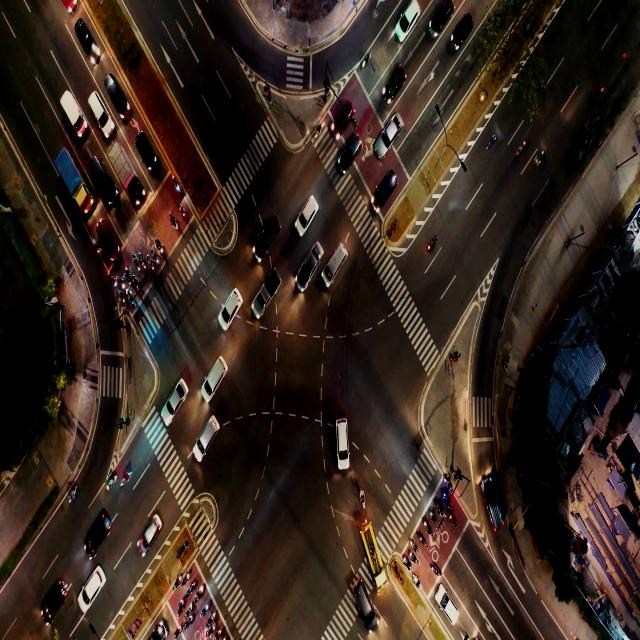bus: (364, 537, 378, 555)
car: (479, 492, 503, 546), (168, 381, 186, 411), (329, 248, 347, 275), (334, 414, 348, 448), (49, 581, 68, 606), (88, 570, 104, 596), (264, 214, 278, 242), (148, 510, 161, 538), (386, 67, 404, 87), (212, 359, 224, 389), (434, 6, 446, 32), (359, 586, 371, 610), (80, 26, 91, 52), (308, 248, 320, 271), (96, 513, 108, 536), (454, 18, 467, 38), (205, 418, 216, 441), (111, 81, 123, 102), (442, 598, 456, 616), (383, 171, 394, 191), (388, 118, 400, 136), (228, 291, 238, 310), (92, 166, 102, 185), (143, 143, 151, 165), (102, 223, 110, 245), (348, 140, 358, 157), (402, 15, 413, 30), (341, 104, 349, 124), (97, 101, 106, 117), (307, 202, 314, 214)
motorcycle: (314, 119, 324, 141), (485, 135, 495, 152), (362, 54, 370, 71), (428, 236, 437, 250), (516, 142, 528, 152), (68, 489, 76, 504), (433, 563, 442, 575), (449, 514, 456, 527), (173, 578, 180, 591), (96, 241, 102, 256), (109, 477, 116, 489), (195, 588, 202, 600), (425, 519, 431, 532), (180, 205, 187, 216), (361, 489, 365, 507), (442, 491, 448, 503), (412, 553, 418, 564), (189, 582, 195, 593), (420, 532, 425, 544), (128, 291, 133, 303), (124, 472, 130, 482), (153, 251, 158, 262), (412, 541, 418, 550), (406, 558, 411, 568), (128, 274, 132, 286), (187, 605, 193, 613), (208, 614, 214, 622), (174, 179, 178, 190), (175, 626, 178, 640), (210, 623, 216, 630), (142, 260, 147, 268), (136, 278, 140, 288), (204, 603, 208, 613), (217, 628, 223, 634), (184, 574, 187, 585), (415, 577, 419, 585), (172, 218, 176, 226), (157, 242, 161, 250), (120, 294, 124, 302), (188, 616, 192, 624), (179, 599, 182, 609), (448, 482, 452, 489), (149, 258, 152, 267), (112, 276, 115, 285), (438, 505, 441, 511), (433, 514, 436, 520), (137, 265, 140, 271), (121, 282, 124, 288)
truck: (57, 163, 81, 199), (258, 280, 276, 310), (118, 153, 134, 185), (66, 98, 80, 120)
